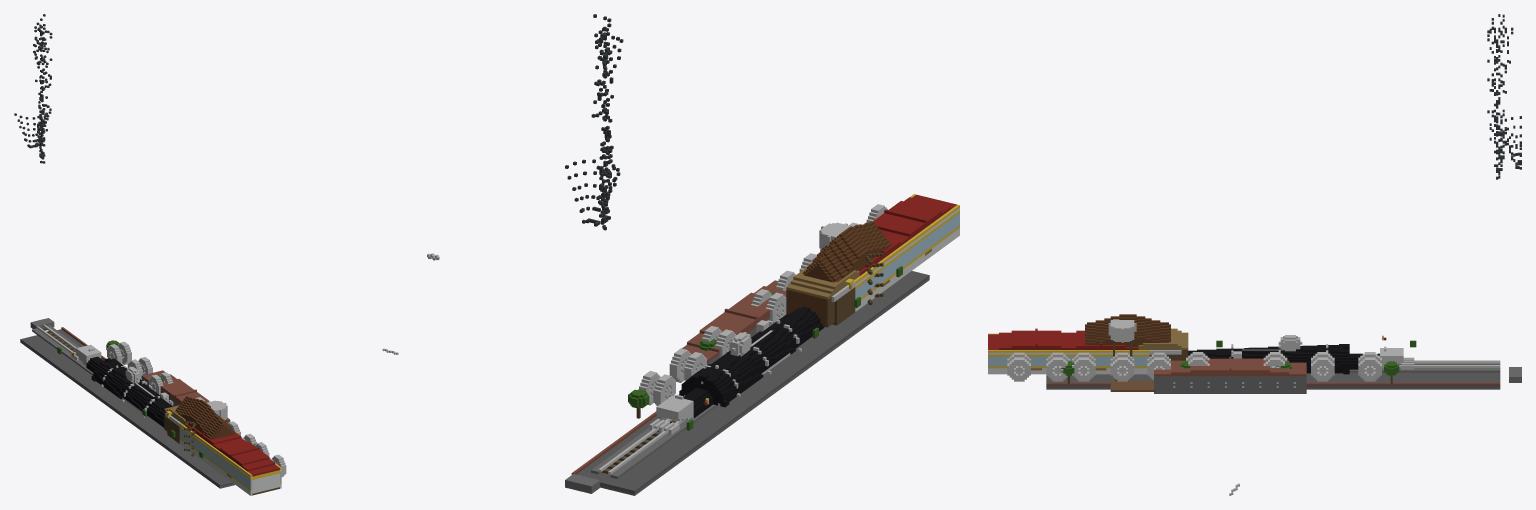
3 renders of one model, left to right at view 1: azimuth 30°, elevation 25°; view 2: azimuth 150°, elevation 25°; view 3: azimuth 270°, elevation 25°, orthographic. The views are drawn at different scales.
Size of the model in its own units: 158 by 187 by 248.
